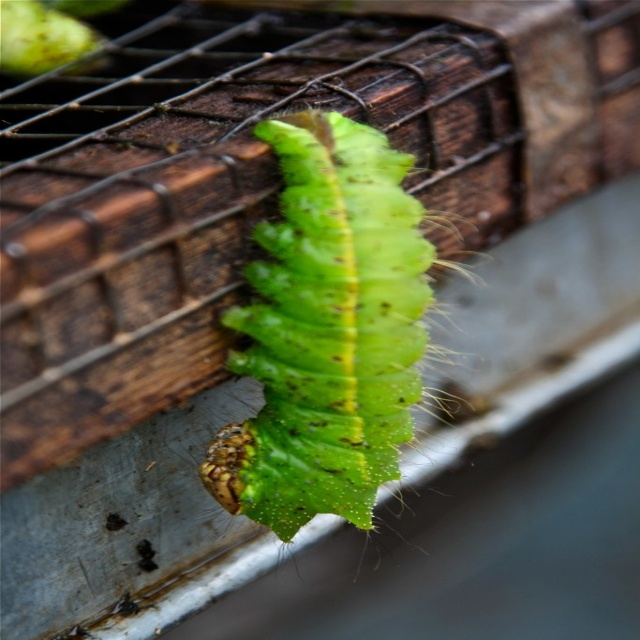Caterpillar: (219, 102, 470, 584)
